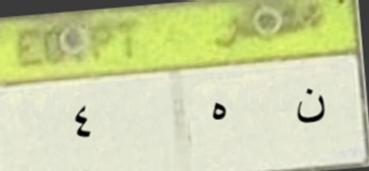4: (68, 95, 95, 146)
haa: (202, 91, 236, 134)
noon: (288, 80, 329, 131)
